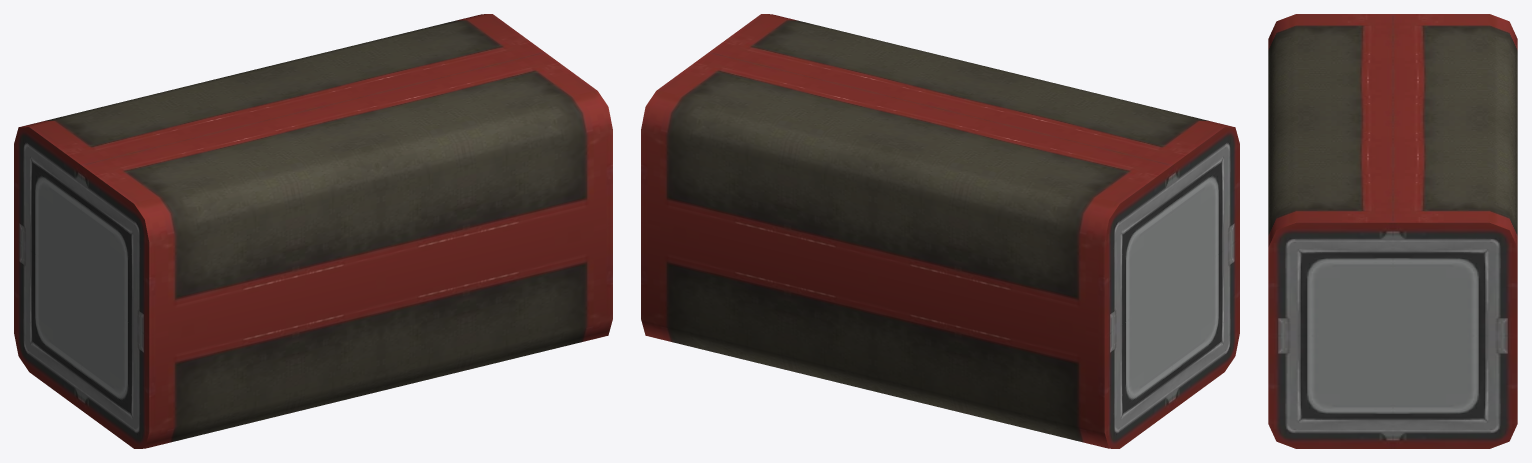
The model's file is Part - block3-DLyfu2vm.glb.
3 views of the same model, side by side, from view 1: azimuth 30°, elevation 25°; view 2: azimuth 150°, elevation 25°; view 3: azimuth 270°, elevation 25° (orthographic). The views are drawn at different scales.
Parts seen in each view (by area): view 1: block3; view 2: block3; view 3: block3.
Part boxes in pixels (box(x1,y1,x2,y2)): block3: box(14, 14, 612, 448); block3: box(641, 14, 1239, 448); block3: box(1268, 14, 1517, 448).
Size of the model in its own units: 1.98 by 1 by 1.
Materials: 1 (1 with a texture image).
